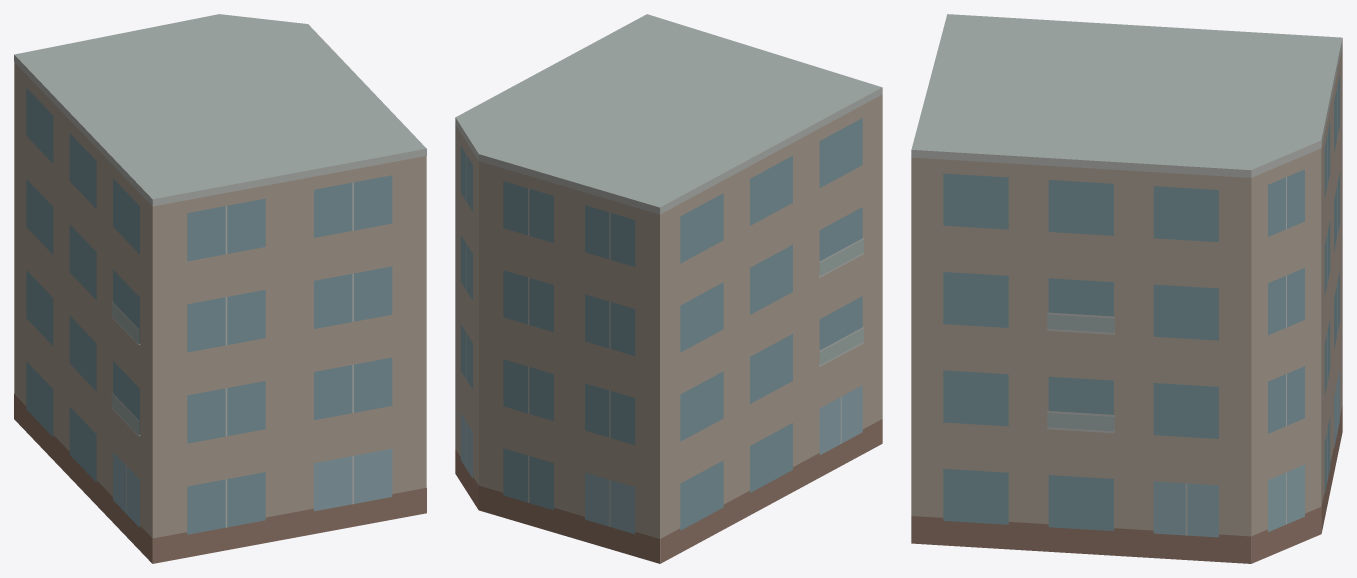
The model's file is survey-upis-32962766.glb.
3 views of the same model, side by side, from view 1: azimuth 30°, elevation 25°; view 2: azimuth 150°, elevation 25°; view 3: azimuth 270°, elevation 25° (orthographic). The views are drawn at different scales.
Visible parts, largest first — view 1: survey-upis-32962766.tmp; view 2: survey-upis-32962766.tmp; view 3: survey-upis-32962766.tmp.
Boxes of the visible parts, x1,y1,x2,y2 form: survey-upis-32962766.tmp: [14, 14, 426, 563]; survey-upis-32962766.tmp: [455, 14, 882, 563]; survey-upis-32962766.tmp: [911, 14, 1342, 563].
Size of the model in its own units: 10.56 by 12.4 by 12.32.
